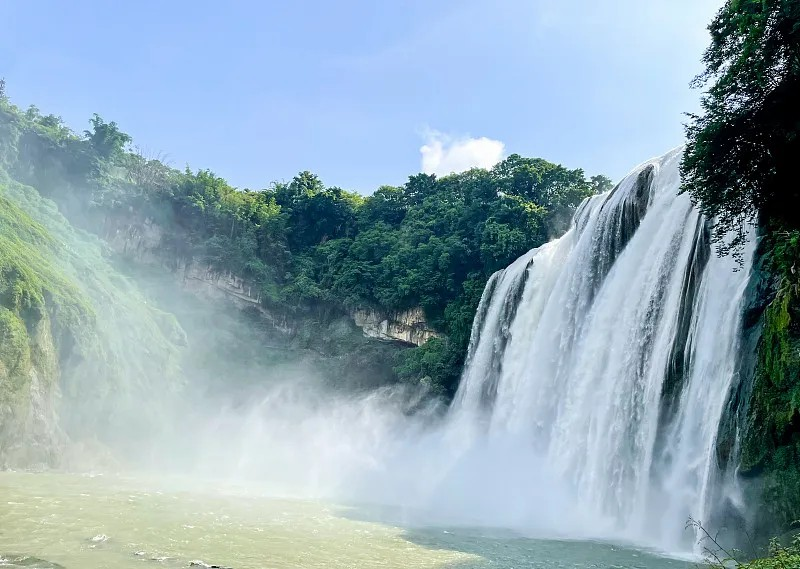Huangguoshu: (443, 147, 759, 555)
